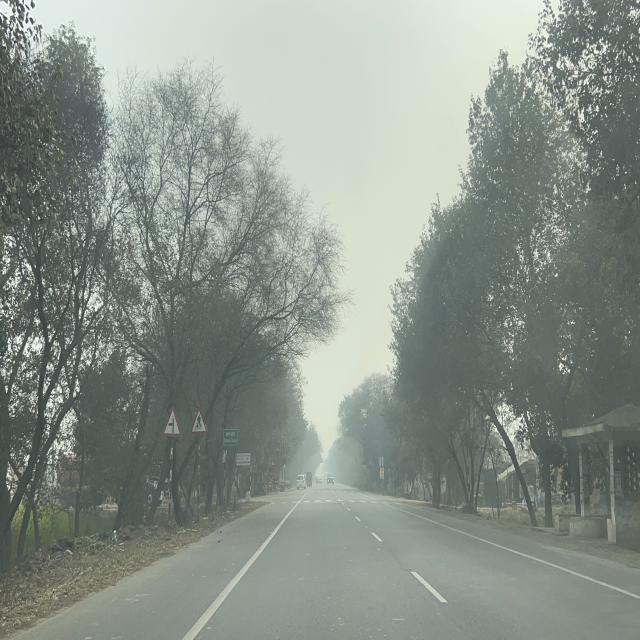GENERAL: (222, 428, 238, 446)
PEDESTRIAN_CROSSING: (191, 405, 208, 433)
SIDE_ROAD_LEFT: (162, 405, 181, 437)
